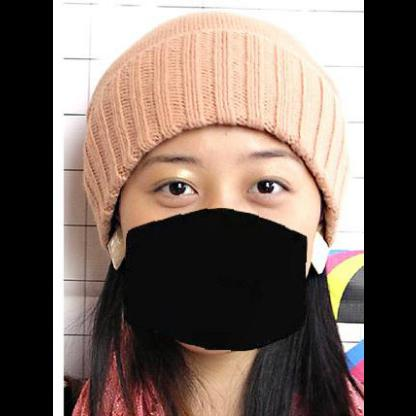Fabric/Cloth Mask: (121, 132, 314, 340)
